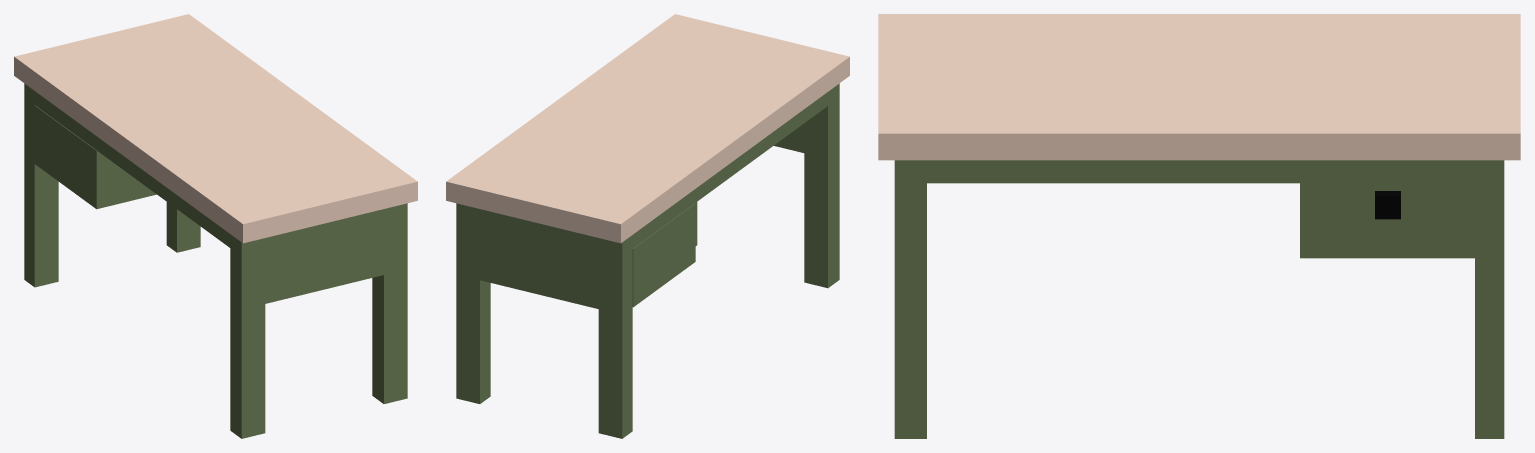
Rendered from Desk1.glb.
3 renders of one model, left to right at view 1: azimuth 30°, elevation 25°; view 2: azimuth 150°, elevation 25°; view 3: azimuth 270°, elevation 25°, orthographic. The views are drawn at different scales.
Parts seen in each view (by area): view 1: Desk; view 2: Desk; view 3: Desk.
Boxes of the visible parts, <box> form: Desk: <box>14,14,417,438</box>; Desk: <box>446,14,849,438</box>; Desk: <box>878,14,1520,438</box>.
Bounding box in the file's own units: 0.4369 × 0.5255 × 0.9913.
Materials: 1 (1 with a texture image).
